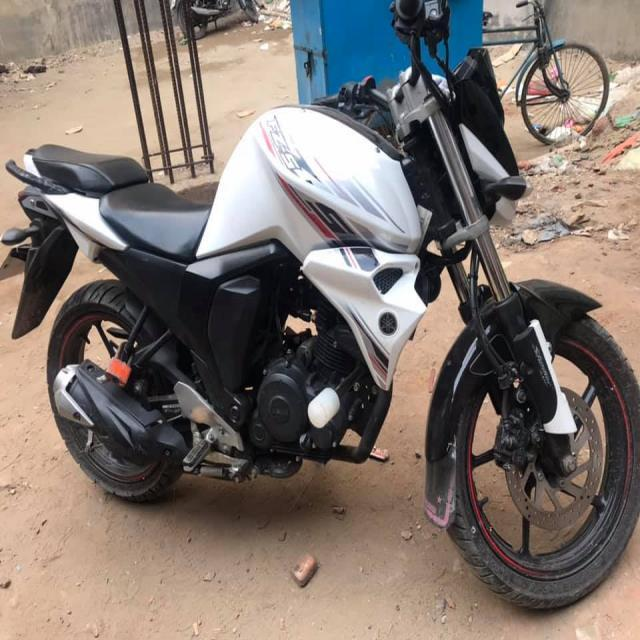Motorbike: (3, 33, 639, 624)
